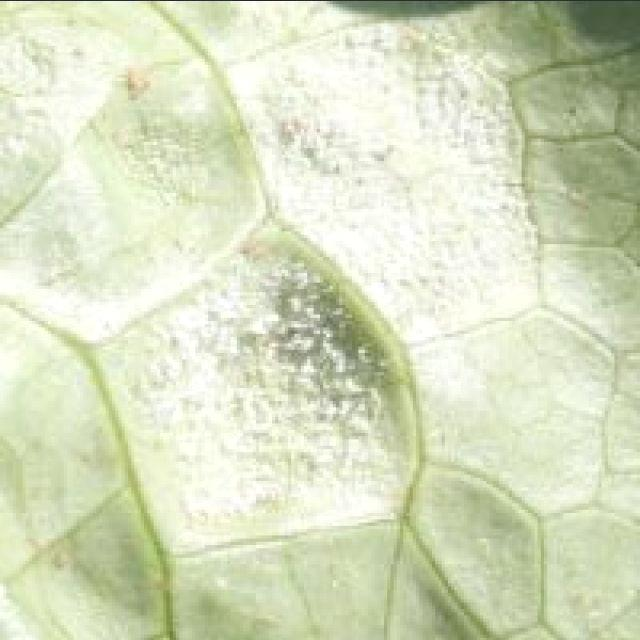Powdery_mildew: (156, 60, 546, 432)
